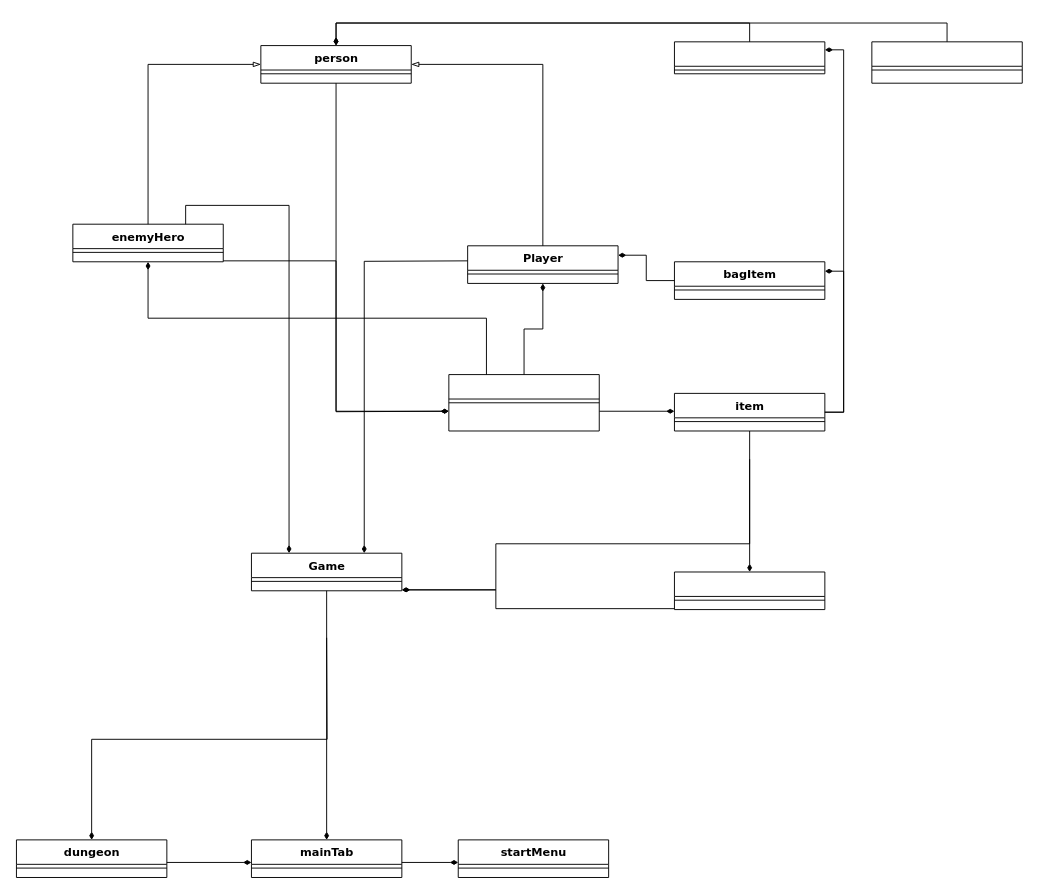
This 1039x894 diagram has some shape labels left out. The shapes that lost their labels are listed below. From the top down, each one's box as (x1, y1, x2, y2) in pixels, then its label:
(674, 41, 825, 74): equipment
(871, 41, 1022, 83): MainStats
(448, 374, 599, 431): Allspell
(674, 571, 825, 610): lootGeneration
